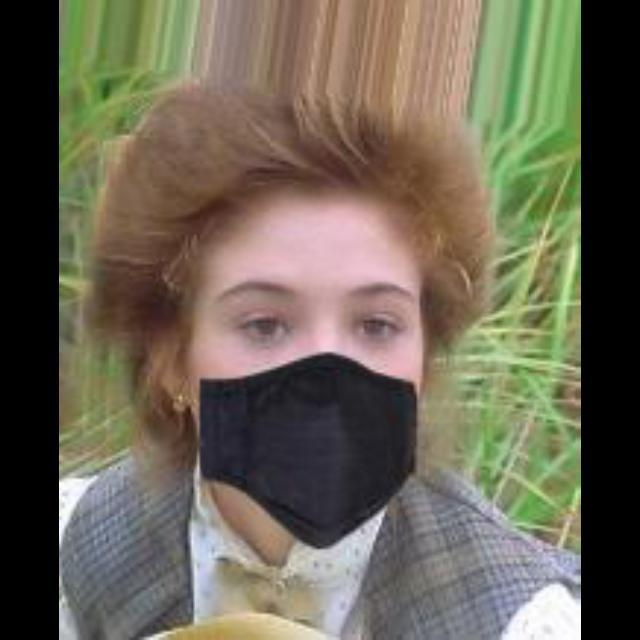suspicion: (170, 182, 444, 528)
